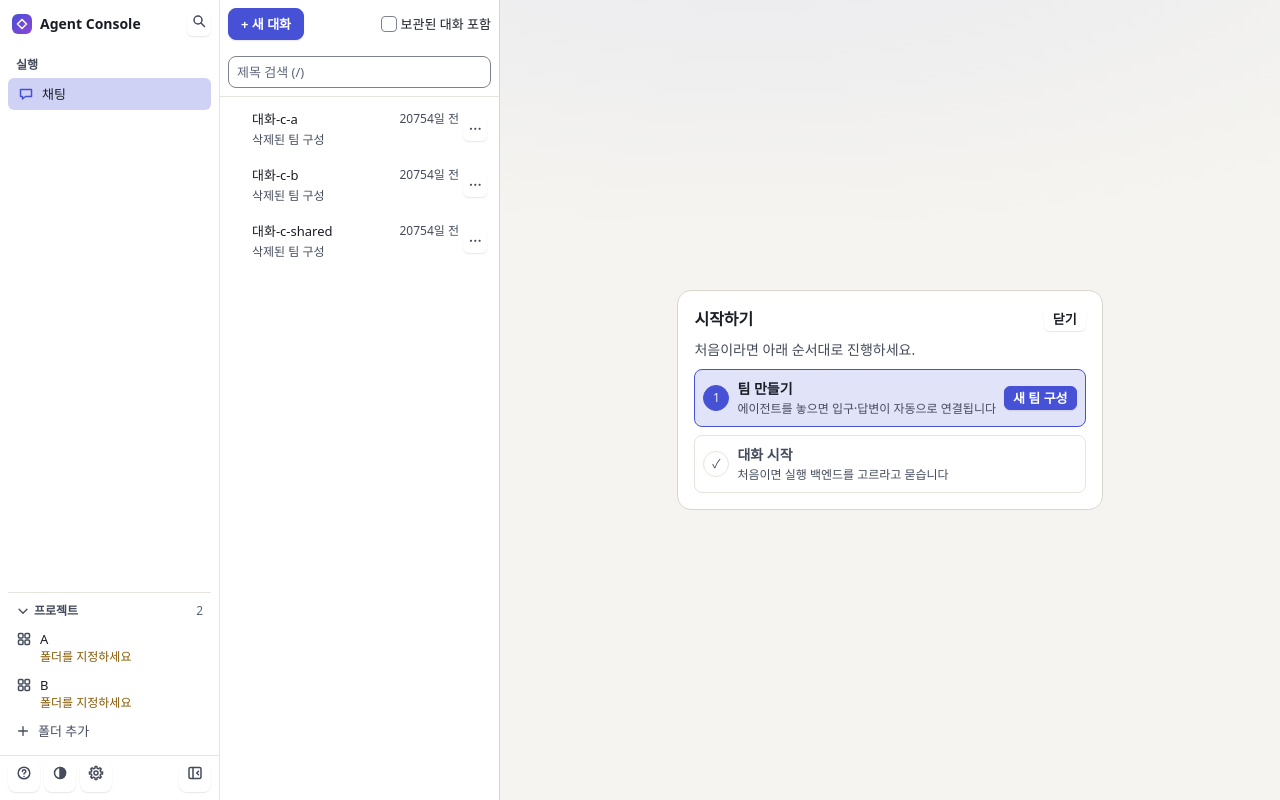
Test: 앱 안의 프로젝트 UI › 프로젝트 역할이 있으면 사이드바에 프로젝트 영역이 있고, 고르면 주소와 대화 목록이 따라간다
Expected: the number of options is 3, [224, 101, 495, 157]; [224, 157, 495, 213]; [224, 213, 495, 269]
Click the button "A 폴더를 지정하세요" at (110, 647), box [8, 625, 211, 669]
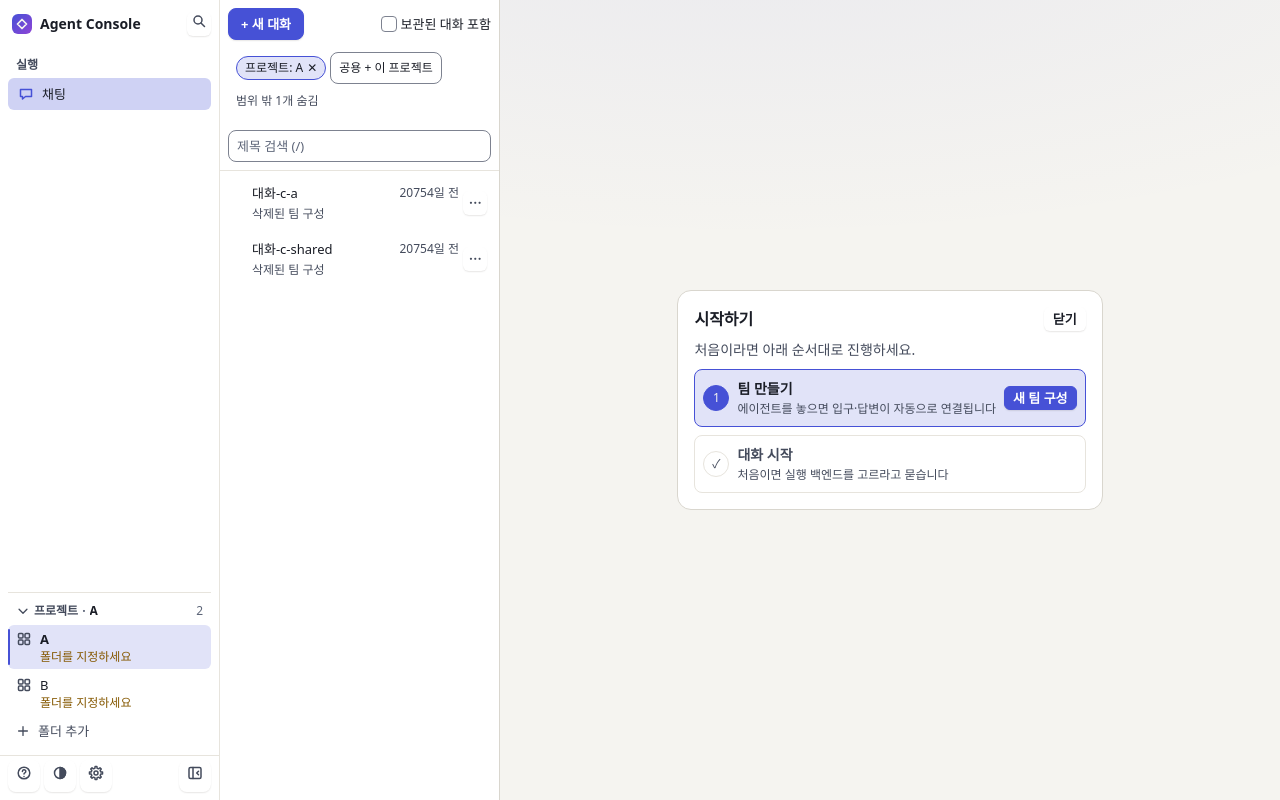
Expected: the number of options is 2, [224, 175, 495, 231]; [224, 231, 495, 287]
Expected: the text "범위 밖 1개 숨김" is shown, [236, 92, 318, 110]
Select "이 프로젝트만" in the dropdown named "보기 범위" at (386, 68), box [330, 52, 442, 84]
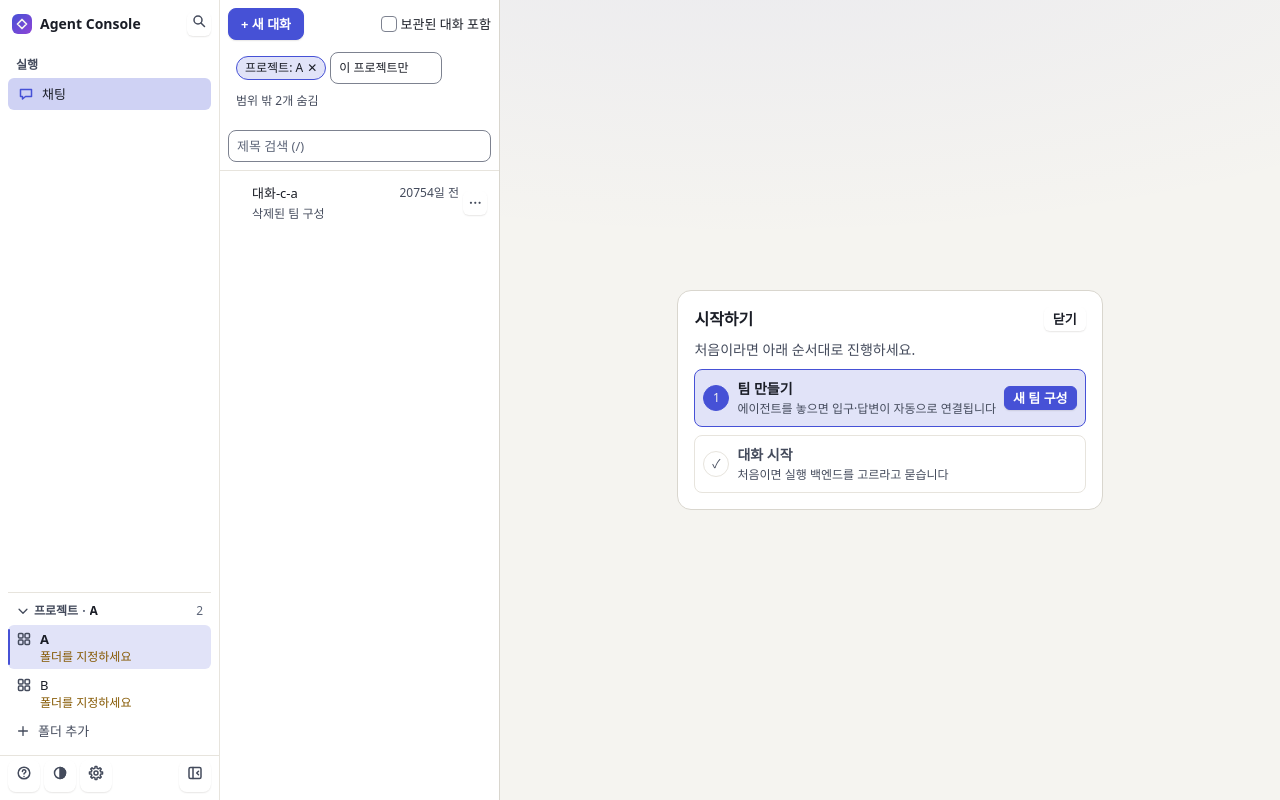
Expected: the number of options is 1, [224, 175, 495, 231]
Click the button with aria-label "모든 프로젝트 보기로" at (281, 68), box [236, 56, 326, 80]
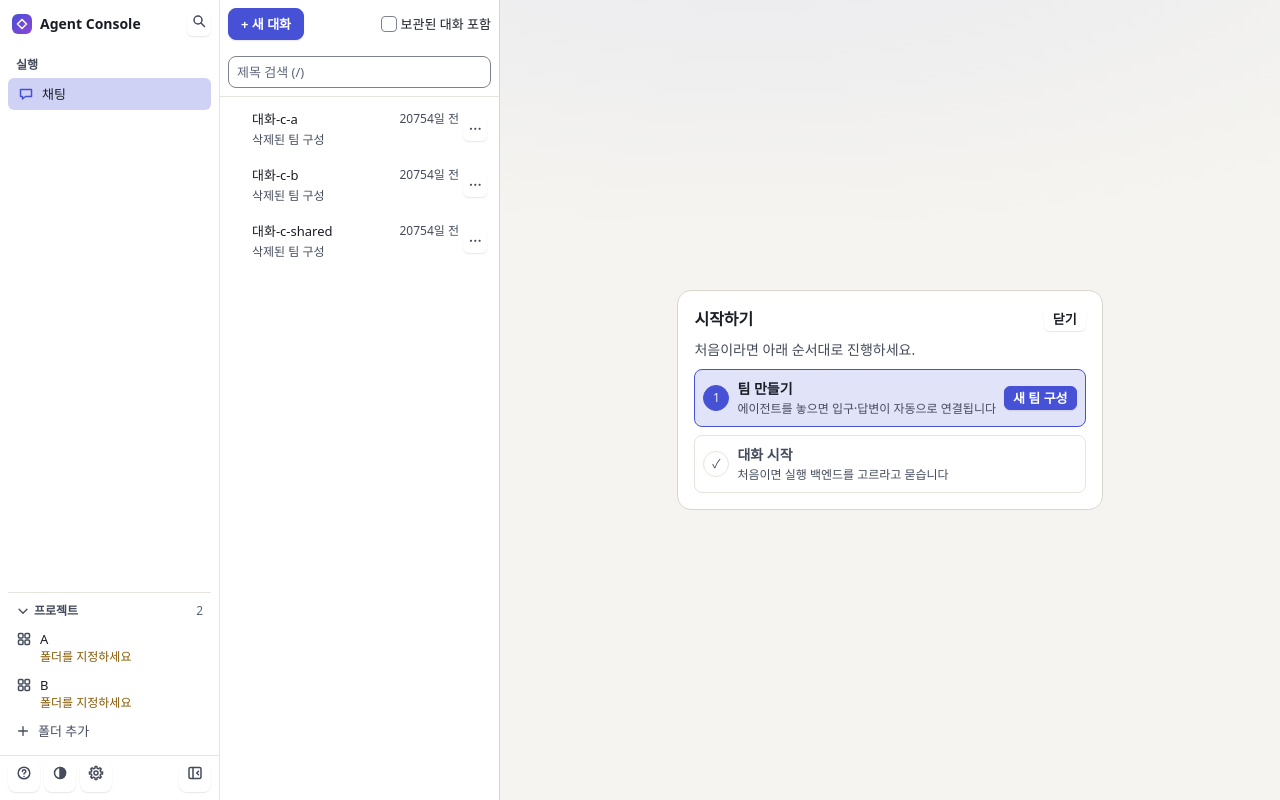
Expected: the number of options is 3, [224, 101, 495, 157]; [224, 157, 495, 213]; [224, 213, 495, 269]
